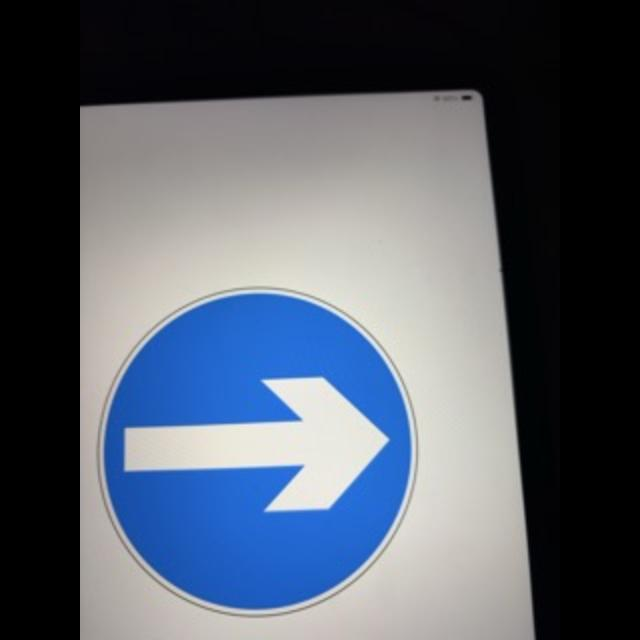TURN RIGHT: (97, 284, 419, 616)
